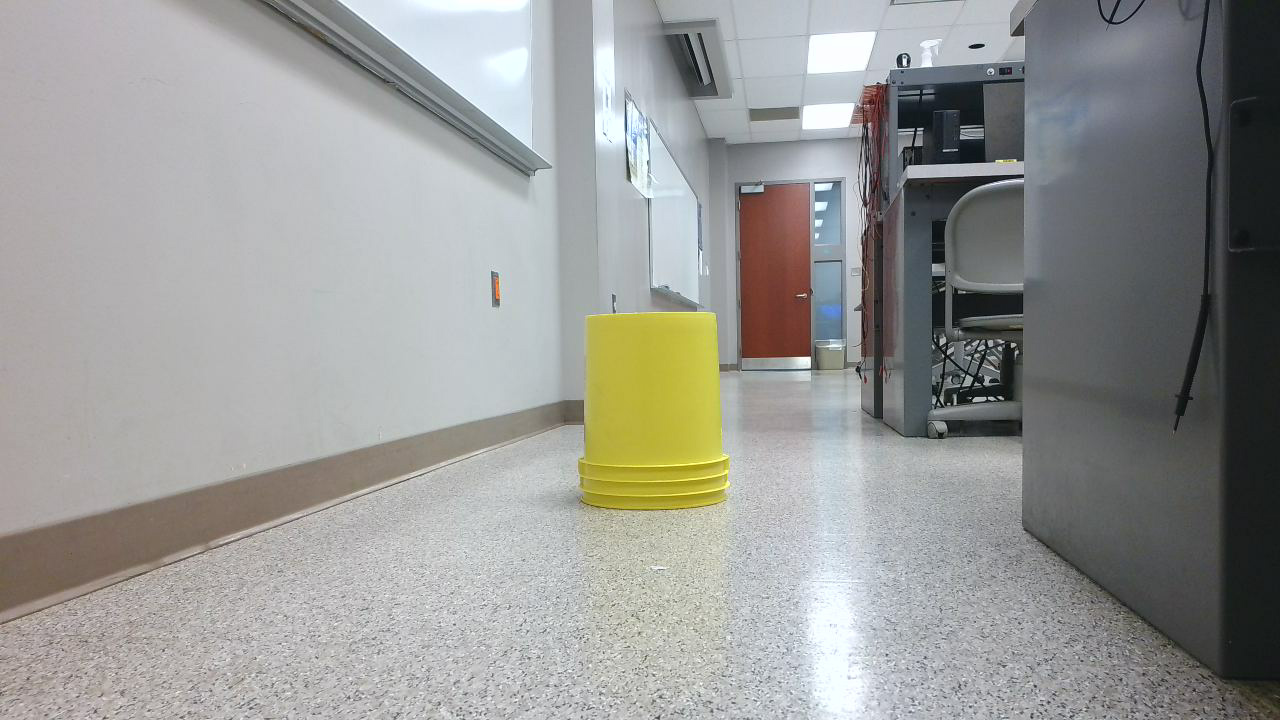yellow_bucket: (578, 314, 739, 519)
